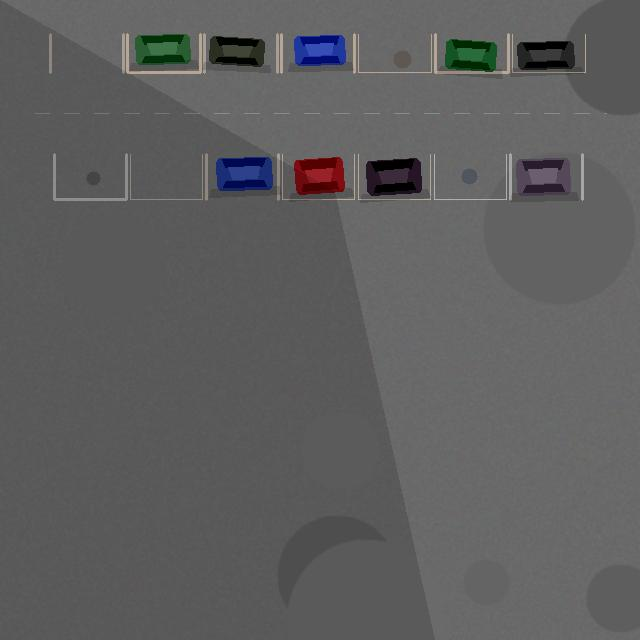space-empty: (54, 154, 126, 199), (130, 154, 202, 199), (434, 154, 506, 199), (50, 34, 123, 72), (358, 34, 431, 72)
space-occupied: (206, 154, 278, 199), (282, 154, 354, 199), (358, 154, 430, 199), (510, 154, 582, 199), (127, 34, 200, 72), (204, 34, 277, 72), (281, 34, 354, 72), (435, 34, 508, 72), (512, 34, 585, 72)
